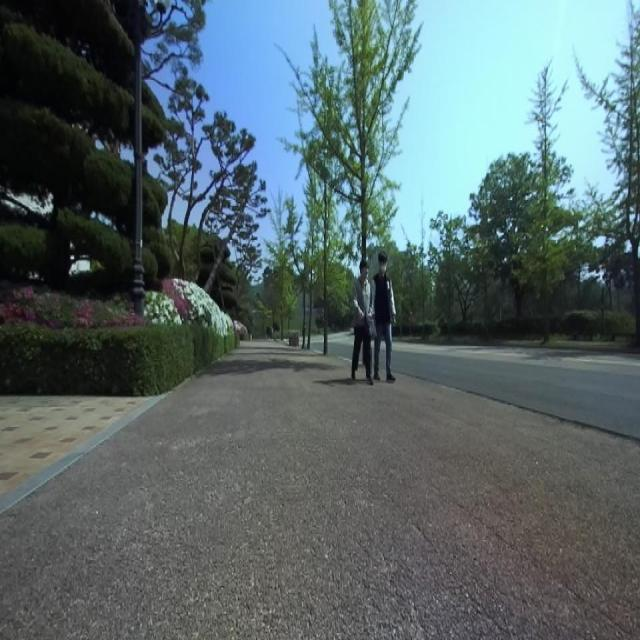sidewalk: (0, 341, 640, 638), (0, 393, 167, 514)
